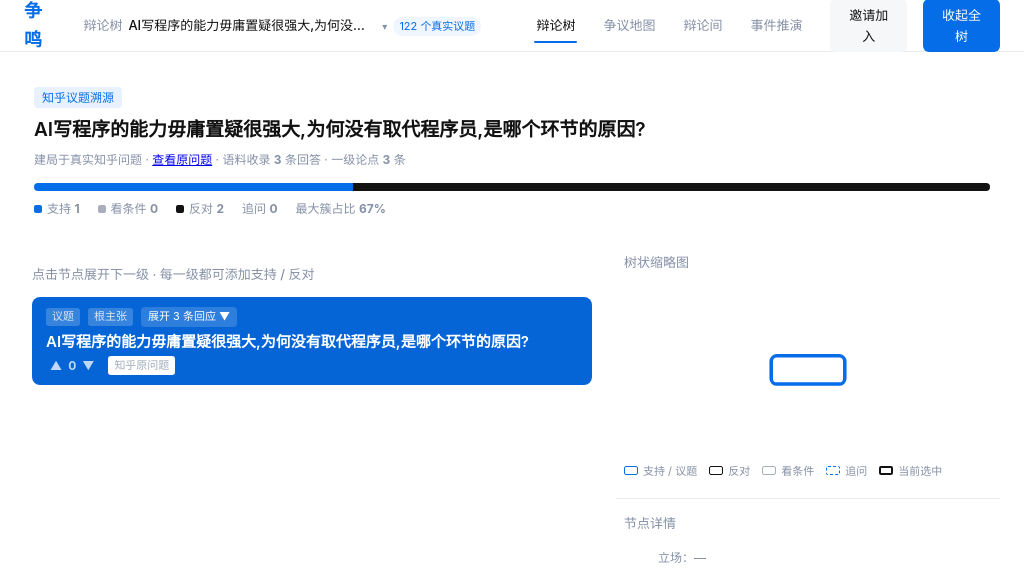
Test: 辩论树 · 议题库 › 搜不到时给空态
Click the button "辩论树 AI写程序的能力毋庸置疑很强大,为何没有取代程序… ▾ 122 个真实议题" at (282, 26), box [72, 10, 492, 41]
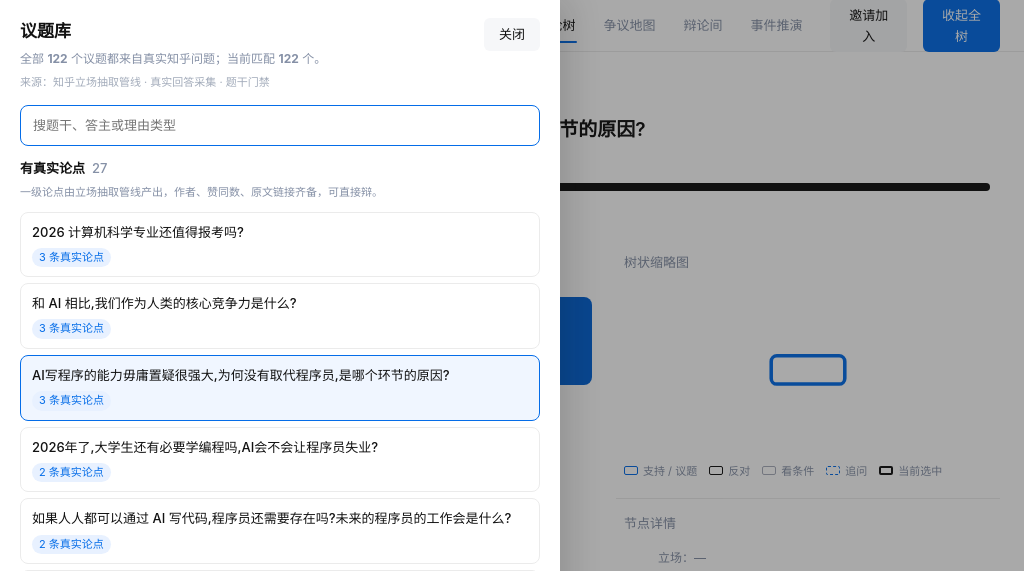
Type "量子纠缠猫" into the search field named "搜索议题" at (280, 126), box [20, 105, 540, 146]
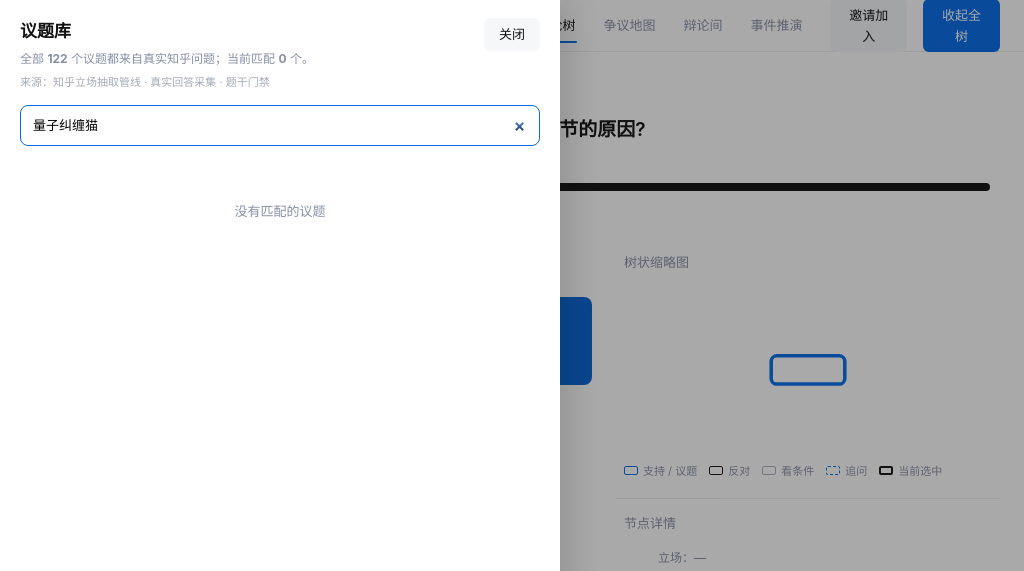
Now the text "没有匹配的议题" is shown, box [234, 203, 326, 219]
